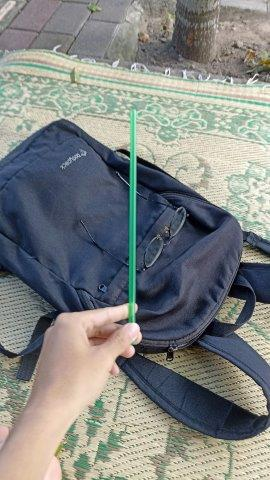sedotan: (129, 110, 136, 323)
